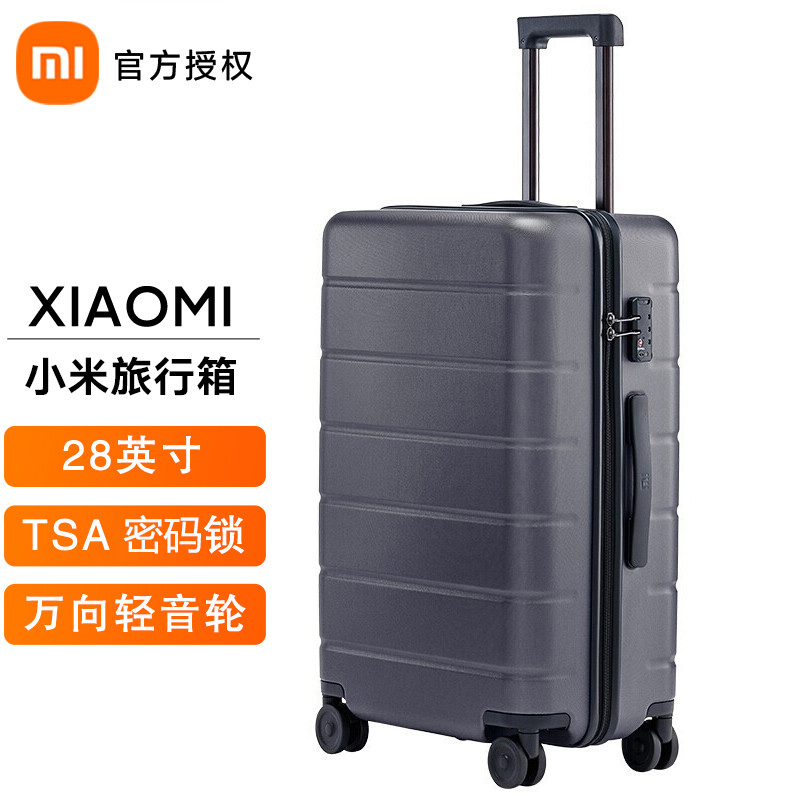box: (320, 203, 681, 747)
handle: (625, 391, 652, 570)
lock: (620, 297, 653, 362)
wheel: (487, 733, 547, 789), (621, 719, 679, 772), (315, 702, 370, 754)
